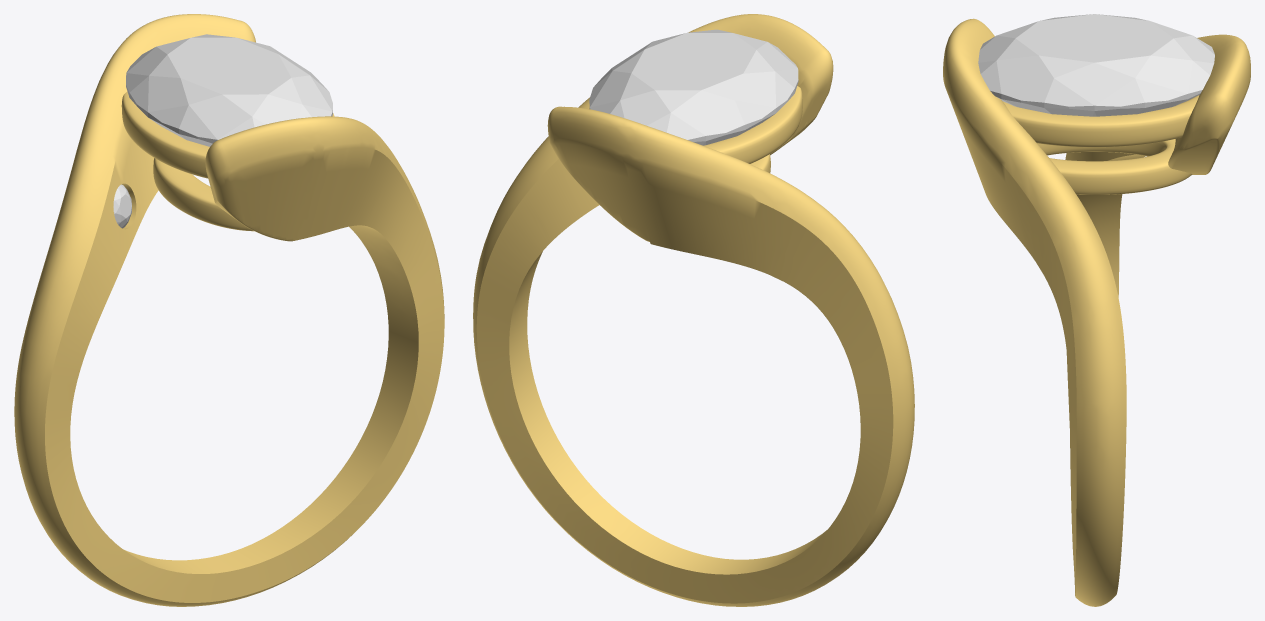
File: JCv1engBypass_blender.glb
The picture shows the model from 3 angles, left to right: view 1: azimuth 30°, elevation 25°; view 2: azimuth 150°, elevation 25°; view 3: azimuth 270°, elevation 25°; orthographic projection. The views are drawn at different scales.
Parts seen in each view (by area): view 1: JC YG for 3d model, JC dia for 3d model.002, JC dia for 3d model; view 2: JC YG for 3d model, JC dia for 3d model.002; view 3: JC YG for 3d model, JC dia for 3d model.002.
Boxes of the visible parts, box(x1,y1,x2,y2) form: JC YG for 3d model: box(14, 14, 444, 606); JC dia for 3d model.002: box(126, 34, 332, 146); JC dia for 3d model: box(113, 184, 131, 228); JC YG for 3d model: box(473, 14, 914, 606); JC dia for 3d model.002: box(589, 29, 798, 145); JC YG for 3d model: box(943, 18, 1250, 606); JC dia for 3d model.002: box(978, 14, 1214, 116).
Bounding box in the file's own units: 21.7 × 25.94 × 13.3.
